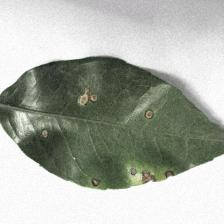canker: (22, 80, 178, 190)
